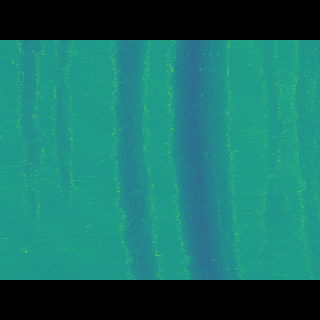Loch: (169, 68, 238, 248), (253, 68, 320, 247), (8, 69, 86, 204), (109, 69, 159, 250)
